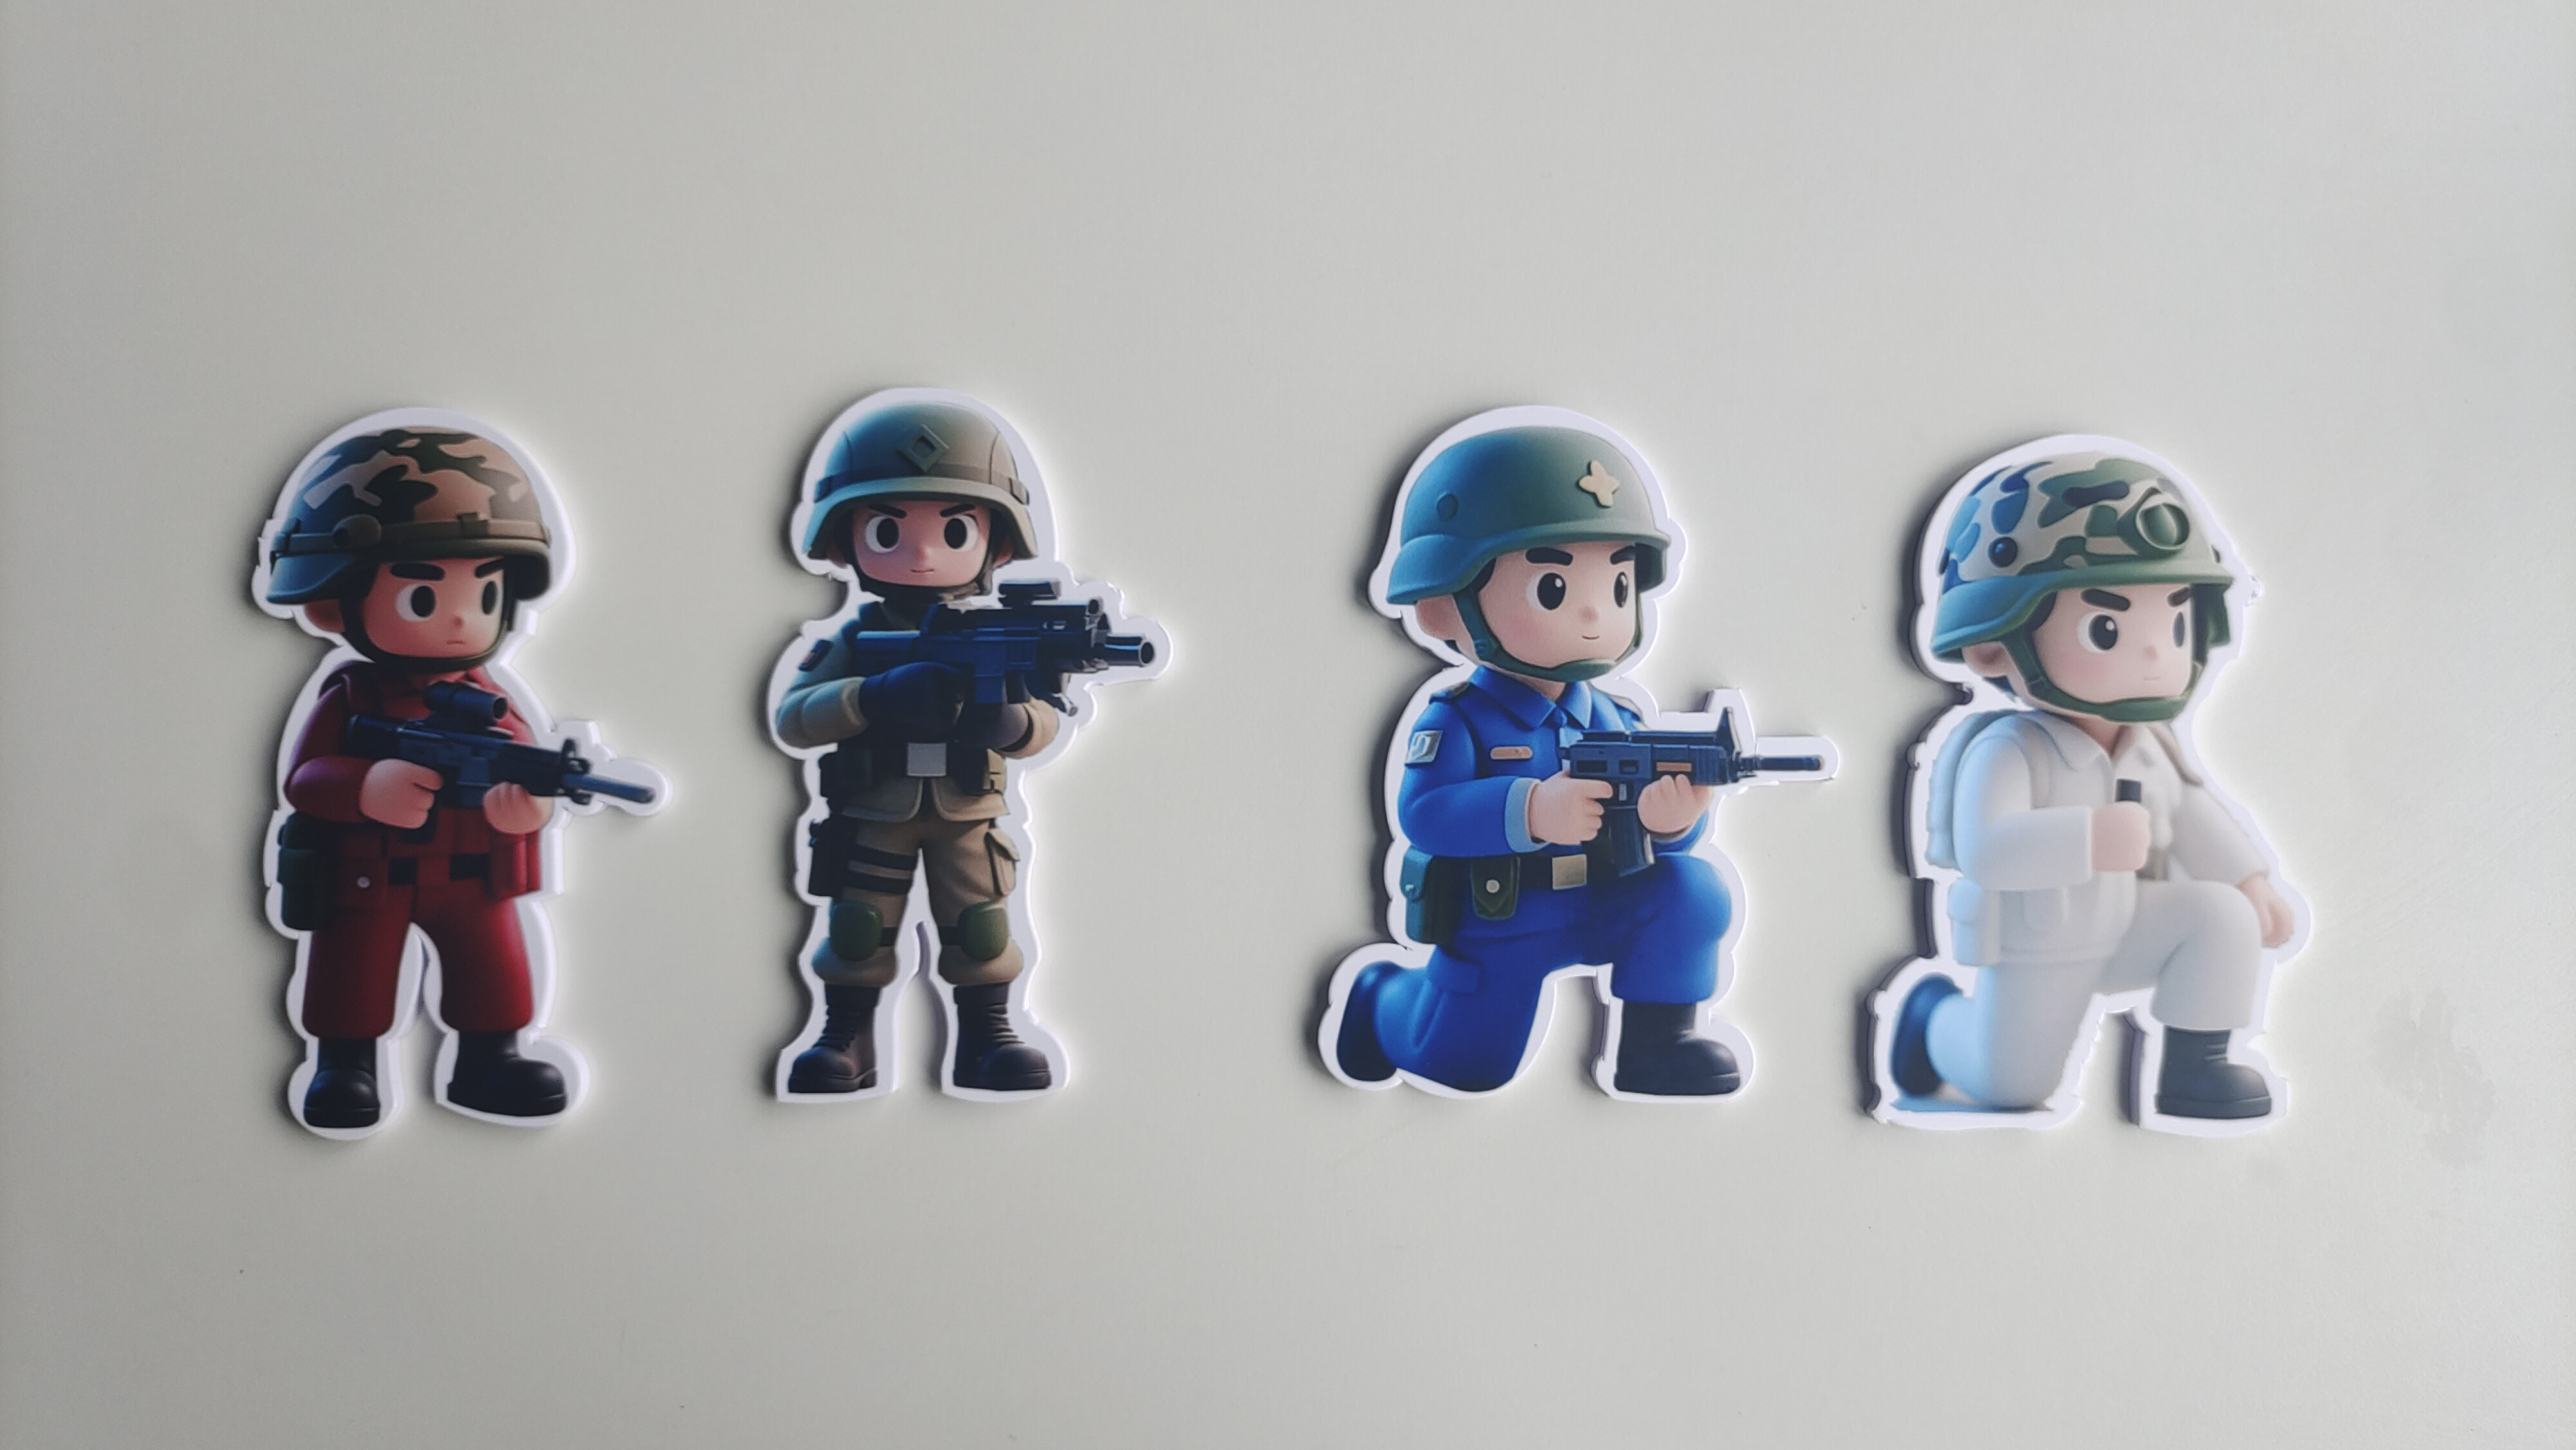enemy1: (249, 663, 602, 1142)
enemy2: (1299, 674, 1778, 1126)
friend: (738, 598, 1086, 1103)
hostage: (1863, 716, 2312, 1158)
